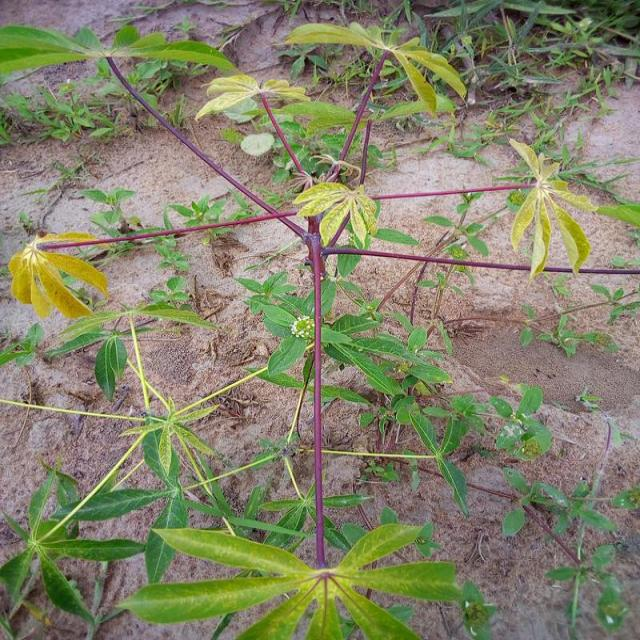cassava leaf: (114, 514, 491, 638), (506, 136, 597, 282), (7, 229, 109, 320)
